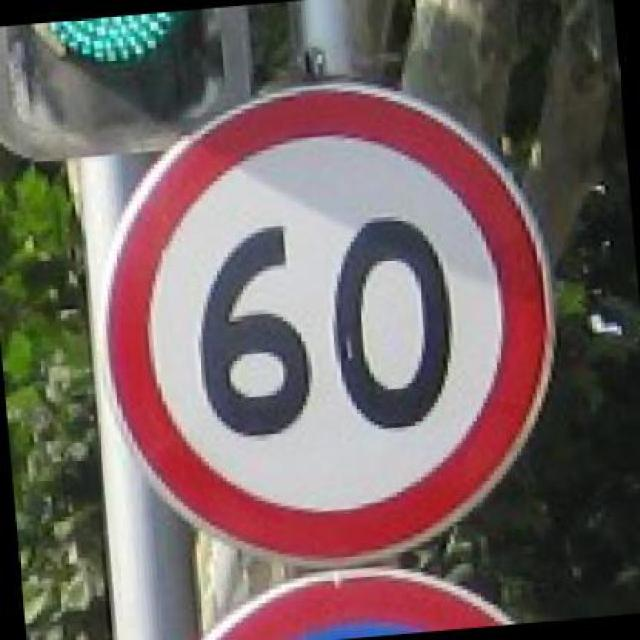Limite-60: (100, 80, 562, 570)
